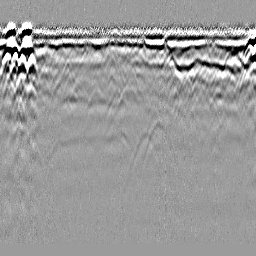cavity: (117, 83, 140, 106)
